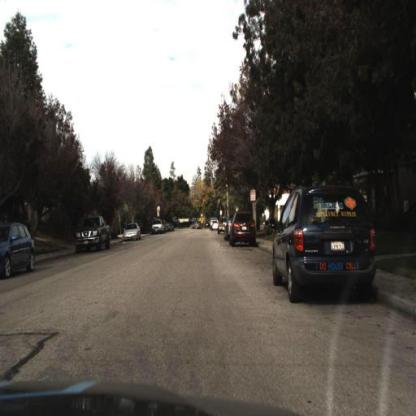car: (270, 184, 380, 305), (1, 220, 37, 282), (73, 206, 115, 255), (74, 215, 114, 257), (230, 209, 259, 249), (229, 210, 258, 249), (120, 220, 142, 245), (217, 214, 230, 240), (188, 217, 205, 235), (150, 220, 164, 238)
